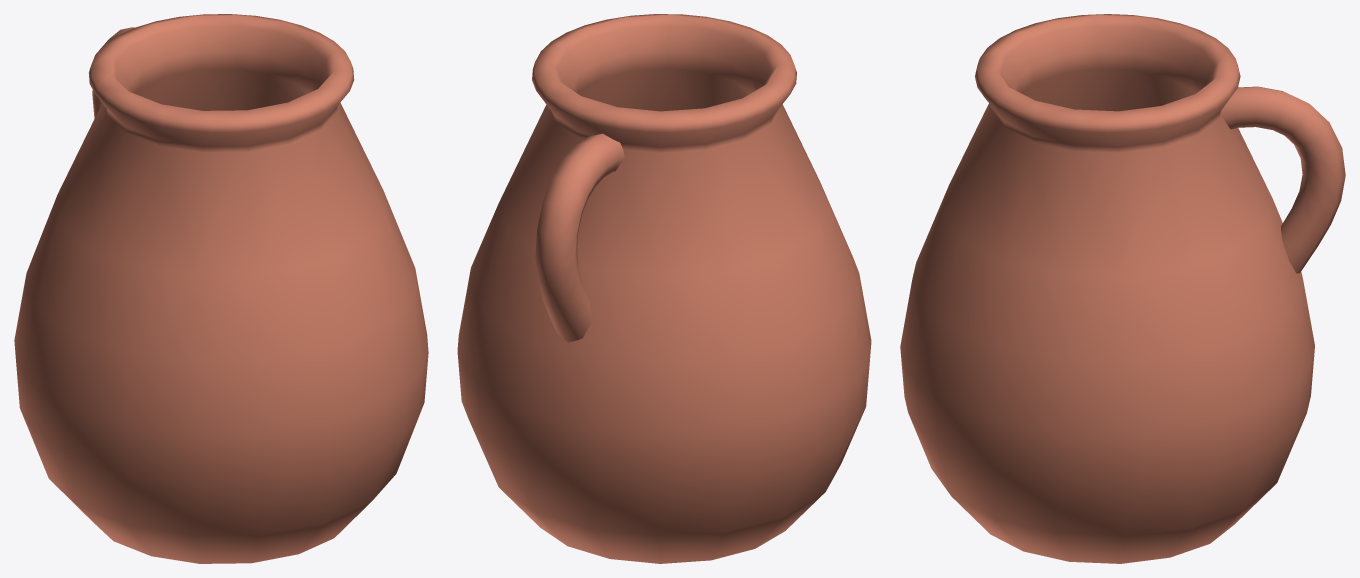
Rendered from ClayPot_05 1.fbx.
3 views of the same model, side by side, from view 1: azimuth 30°, elevation 25°; view 2: azimuth 150°, elevation 25°; view 3: azimuth 270°, elevation 25° (orthographic).
Parts seen in each view (by area): view 1: ClayPot_05; view 2: ClayPot_05; view 3: ClayPot_05.
Part boxes in pixels (bbox=[...]): ClayPot_05: bbox=[14, 14, 428, 563]; ClayPot_05: bbox=[457, 14, 871, 563]; ClayPot_05: bbox=[900, 14, 1345, 563].
Bounding box in the file's own units: 36.73 × 43.45 × 39.44.
